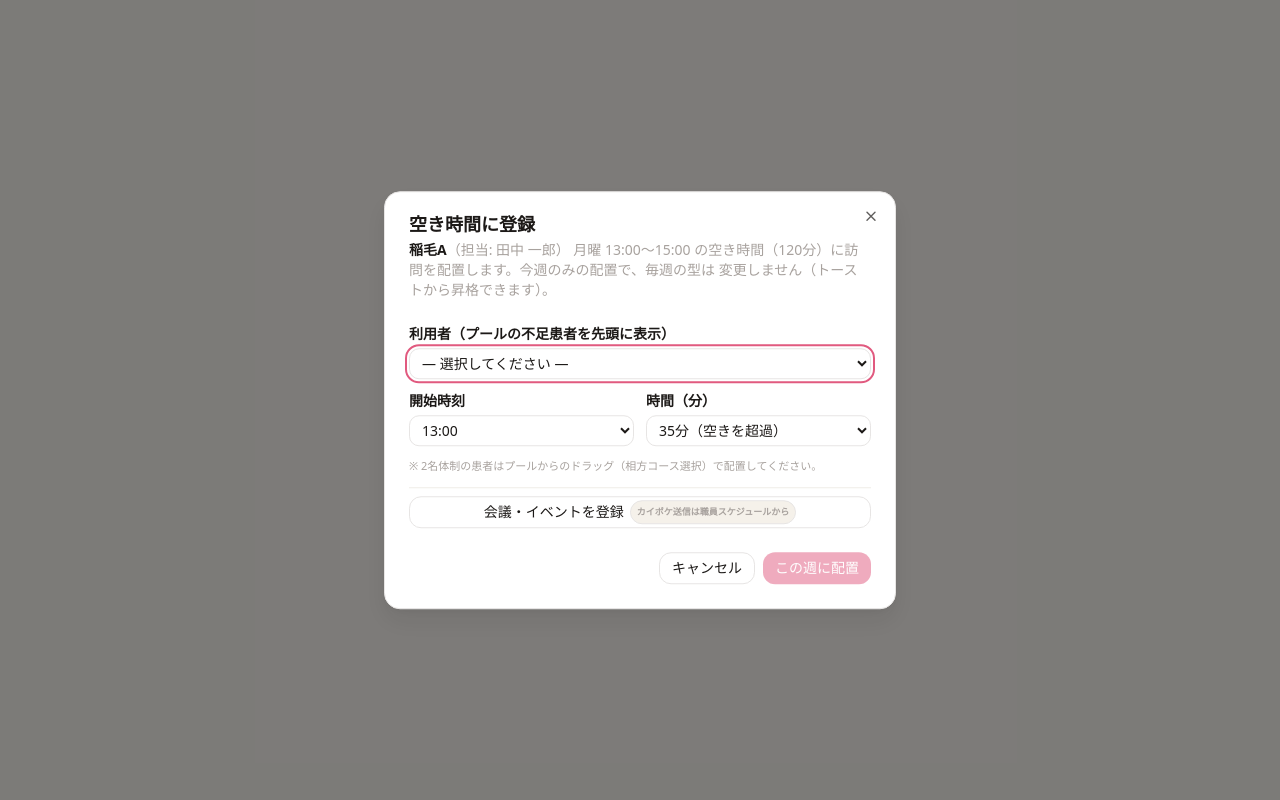
Test: SlotRegisterDialog › NG 患者を選ぶと警告帯が出る (ブロックはしない)
Select "⛔NG 利用者A あい（不足2件・45分）" in the dropdown with test id "slot-register-patient-select": (640, 364) [409, 348, 871, 379]
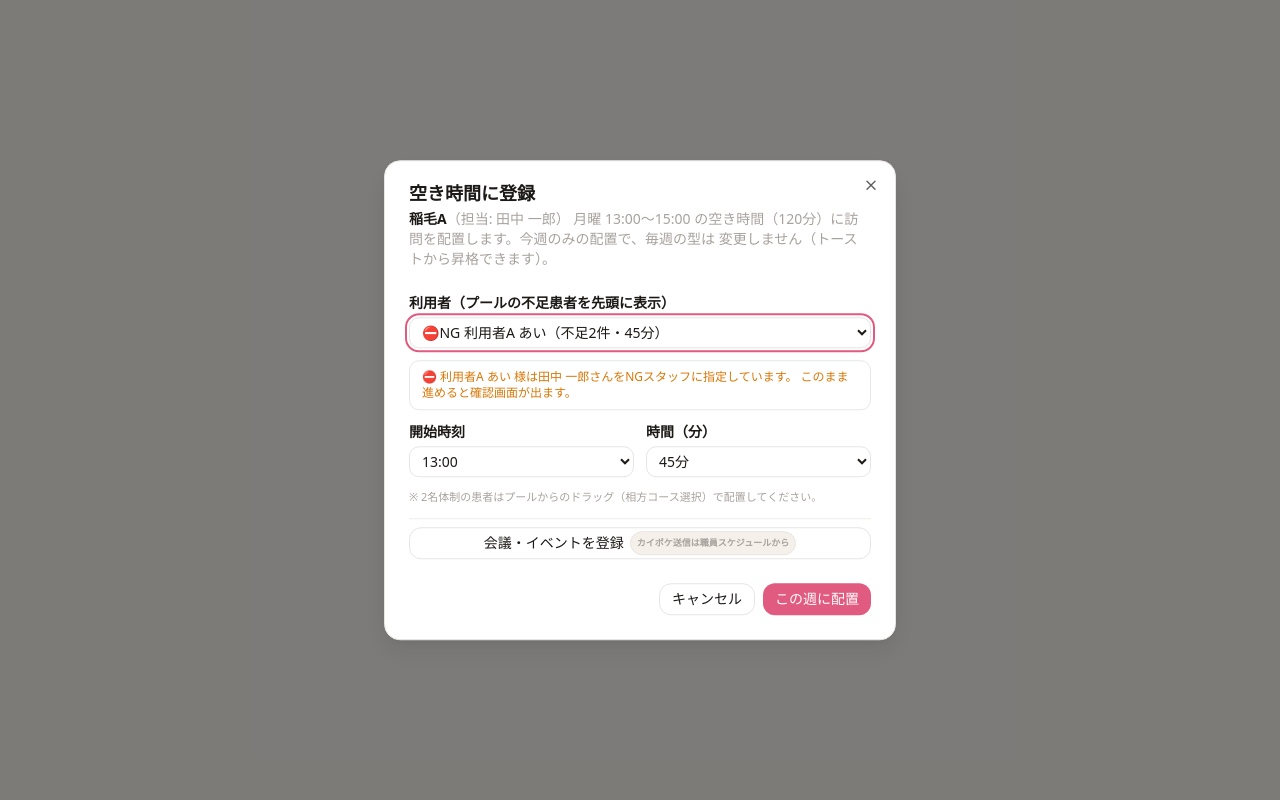
Expected: the message with test id "slot-register-ng-warning" shows "利用者A あい", [440, 368, 511, 385]
Expected: the message with test id "slot-register-ng-warning" shows "田中 一郎さん", [538, 368, 613, 385]
Expected: the message with test id "slot-register-ng-warning" shows "NGスタッフに指定しています", [422, 368, 849, 401]
